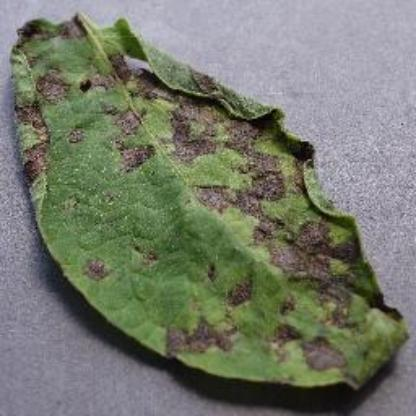Early-Blight: (7, 13, 410, 392)
